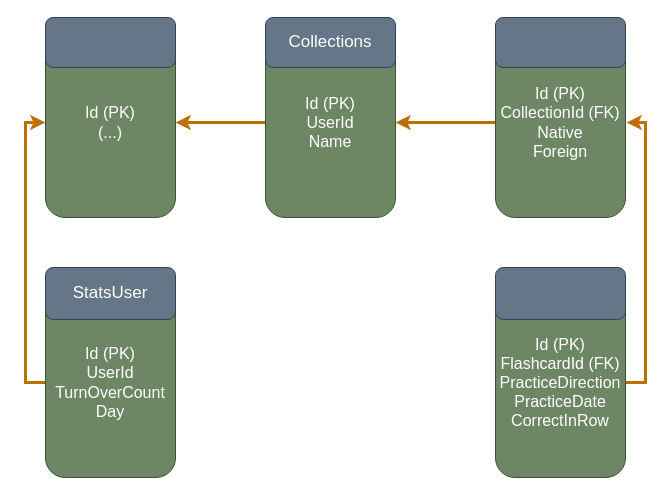
This 672x495 diagram has some shape labels left out. Each missing label, with the centre of its shape:
AspNetUsers: [110,42]
Flashcards: [560,42]
Flashcards Progresses: [560,293]
